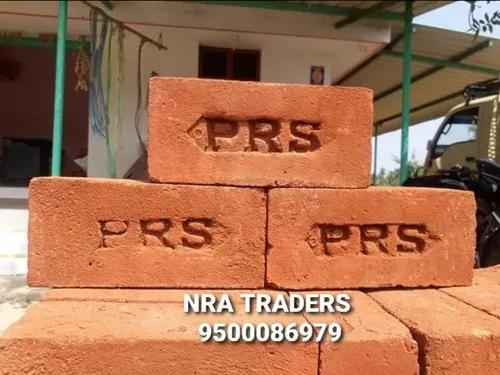brick: (24, 180, 265, 288), (147, 76, 373, 189), (268, 190, 475, 292)
